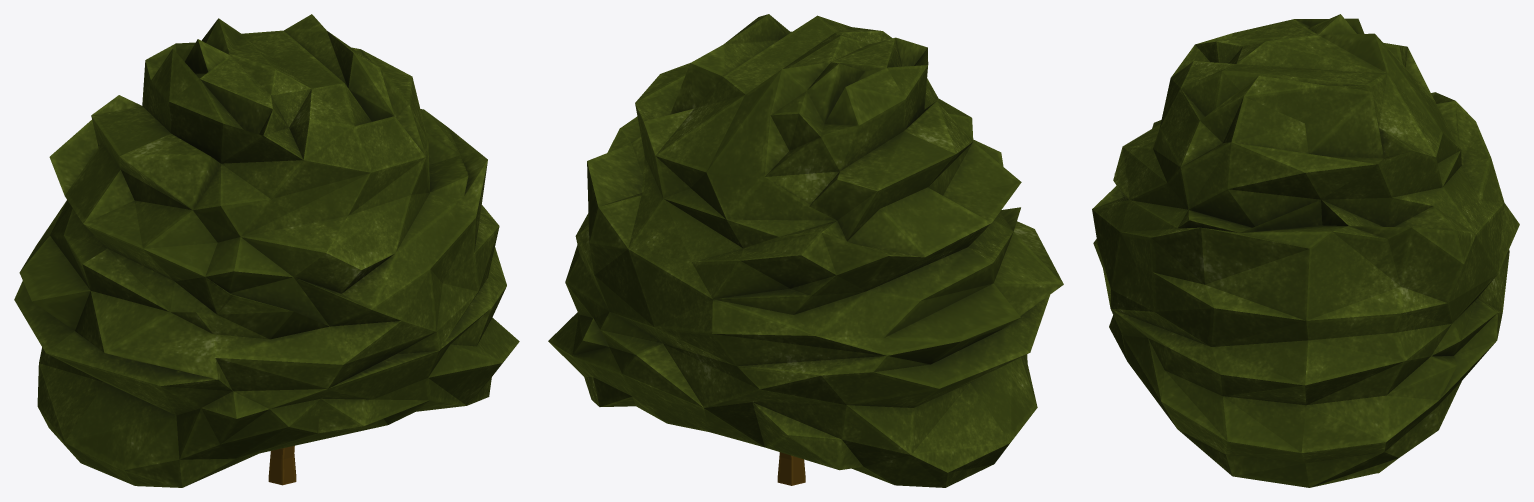
The model's file is sycamore.glb.
3 views of the same model, side by side, from view 1: azimuth 30°, elevation 25°; view 2: azimuth 150°, elevation 25°; view 3: azimuth 270°, elevation 25° (orthographic). The views are drawn at different scales.
Visible parts, largest first — view 1: node-0; view 2: node-0; view 3: node-0.
Part boxes in pixels (x1,y1,x2,y2): node-0: [14, 14, 519, 487]; node-0: [548, 14, 1063, 487]; node-0: [1092, 14, 1519, 487].
Bounding box in the file's own units: 13.93 × 13.07 × 12.1.
Materials: 1 (1 with a texture image).
